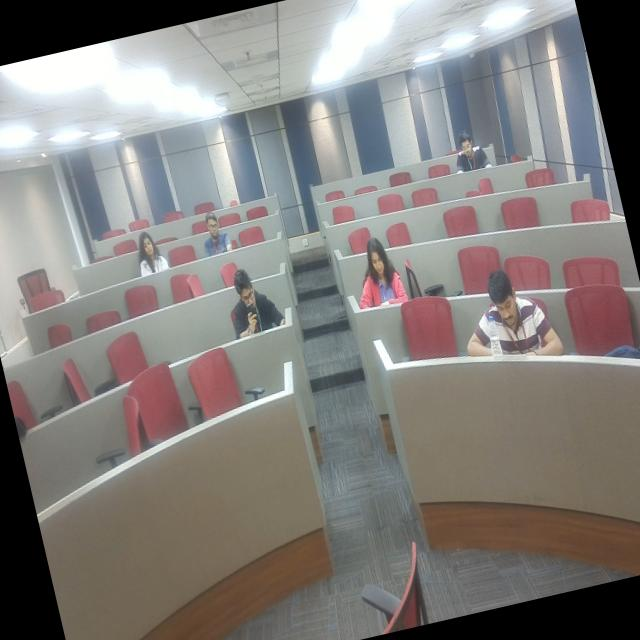cheating: (222, 268, 290, 348)
non-cheating: (341, 224, 414, 328), (123, 218, 178, 290)
